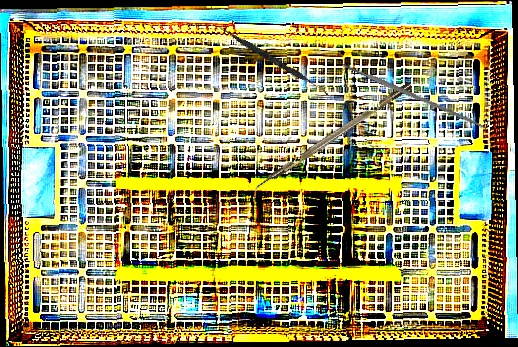Chopper: (246, 81, 419, 202)
Scalpel Handle: (341, 61, 488, 131)
Spatula Surgical: (215, 24, 333, 97)
